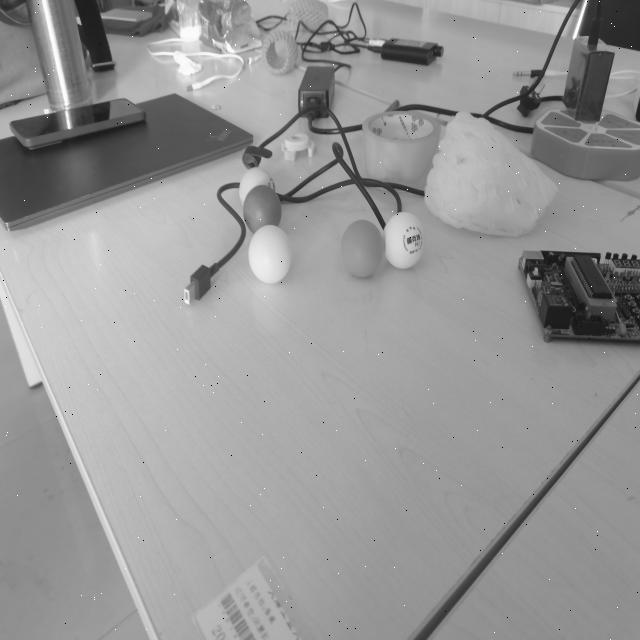ping-pong-ball: (342, 218, 383, 278), (385, 210, 425, 266), (252, 226, 290, 283), (246, 184, 281, 232), (238, 167, 272, 209)
